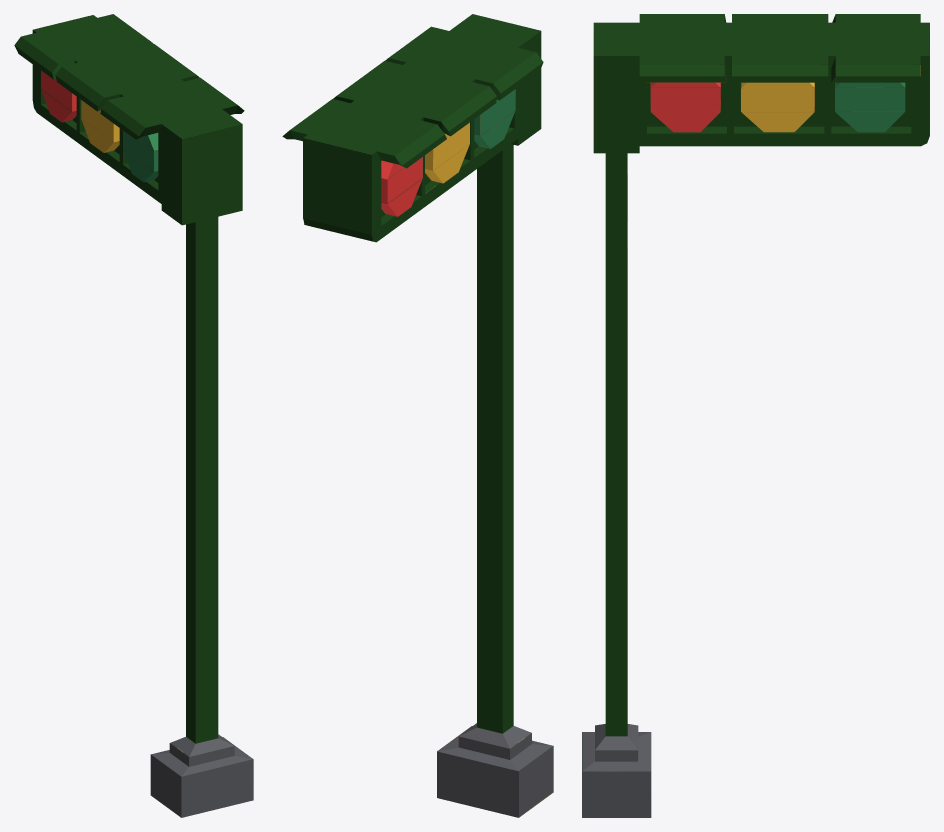
Rendered from trafficlight.fbx.
3 renders of one model, left to right at view 1: azimuth 30°, elevation 25°; view 2: azimuth 150°, elevation 25°; view 3: azimuth 270°, elevation 25°, orthographic. The views are drawn at different scales.
Parts seen in each view (by area): view 1: Cube; view 2: Cube; view 3: Cube.
Boxes of the visible parts, <box> form: Cube: <box>14,14,253,817</box>; Cube: <box>282,14,553,817</box>; Cube: <box>582,14,929,817</box>.
Size of the model in its own units: 103 by 631 by 262.
